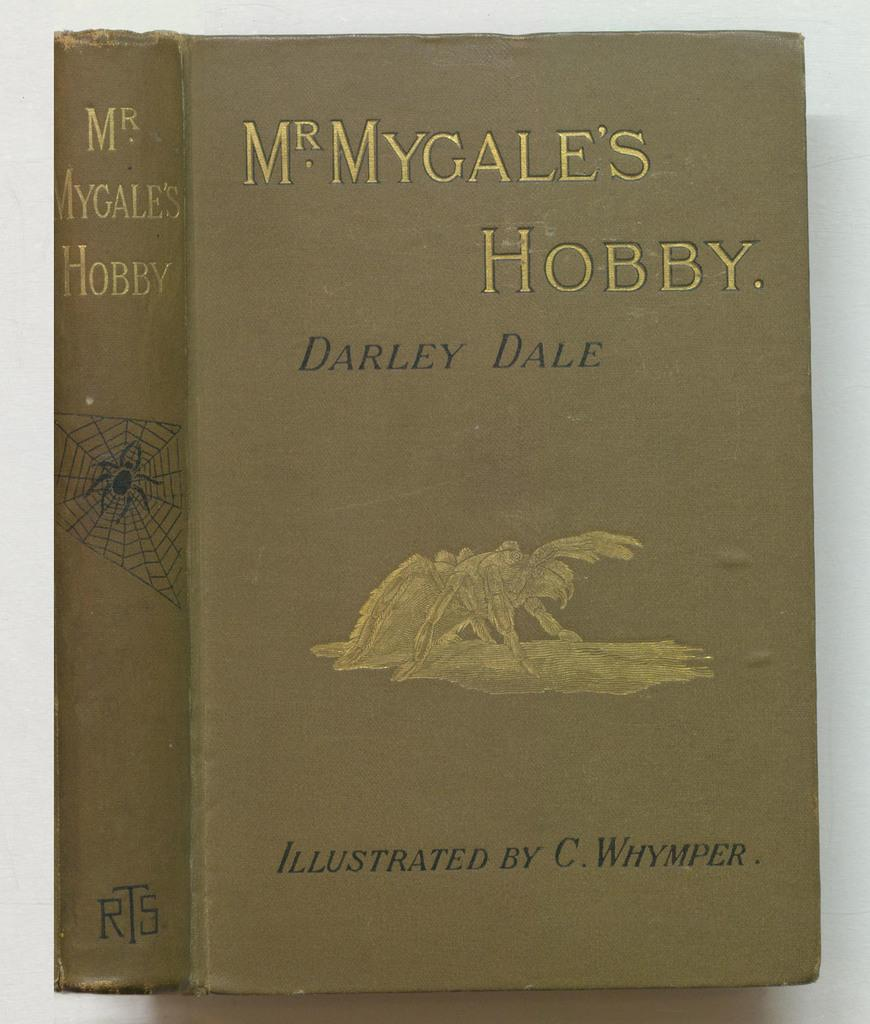book: (50, 19, 828, 990)
